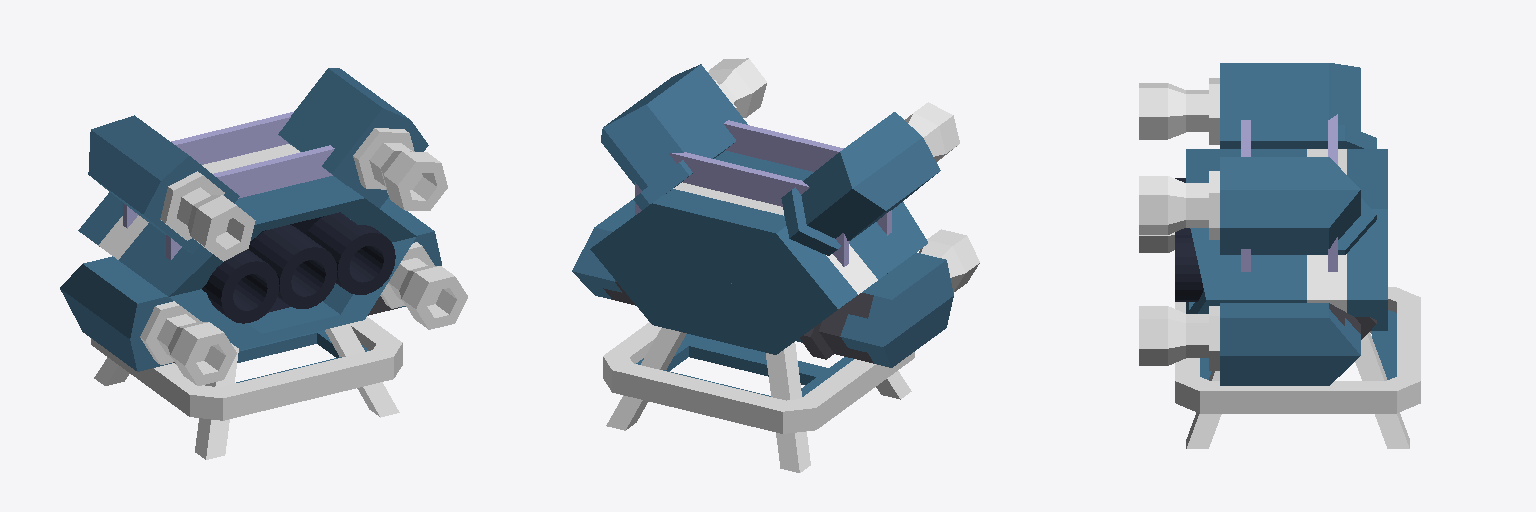
File: walking_02_03.obj
3 renders of one model, left to right at view 1: azimuth 30°, elevation 25°; view 2: azimuth 150°, elevation 25°; view 3: azimuth 270°, elevation 25°, orthographic.
Parts seen in each view (by area): view 1: mergedBlocks; view 2: mergedBlocks; view 3: mergedBlocks.
Boxes of the visible parts, <box> form: mergedBlocks: <box>60,68,467,459</box>; mergedBlocks: <box>572,58,979,472</box>; mergedBlocks: <box>1139,63,1420,448</box>.
Bounding box in the file's own units: 1.61 × 1.44 × 1.26.